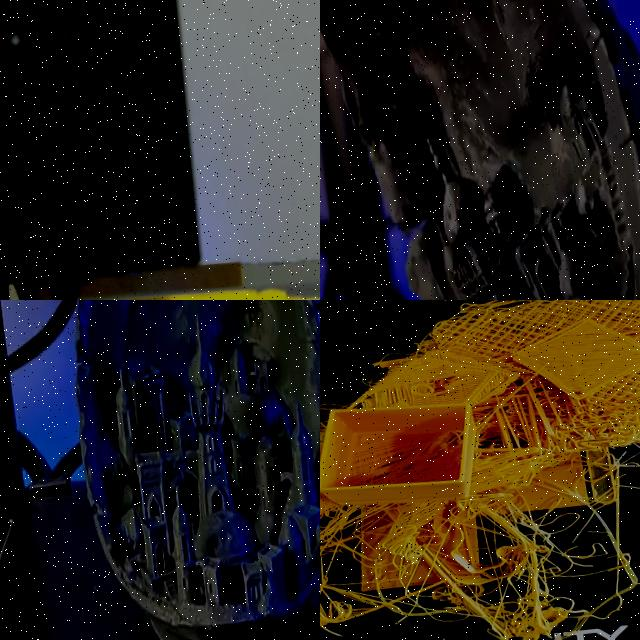spaghetti: (320, 463, 640, 640), (568, 300, 640, 518)
